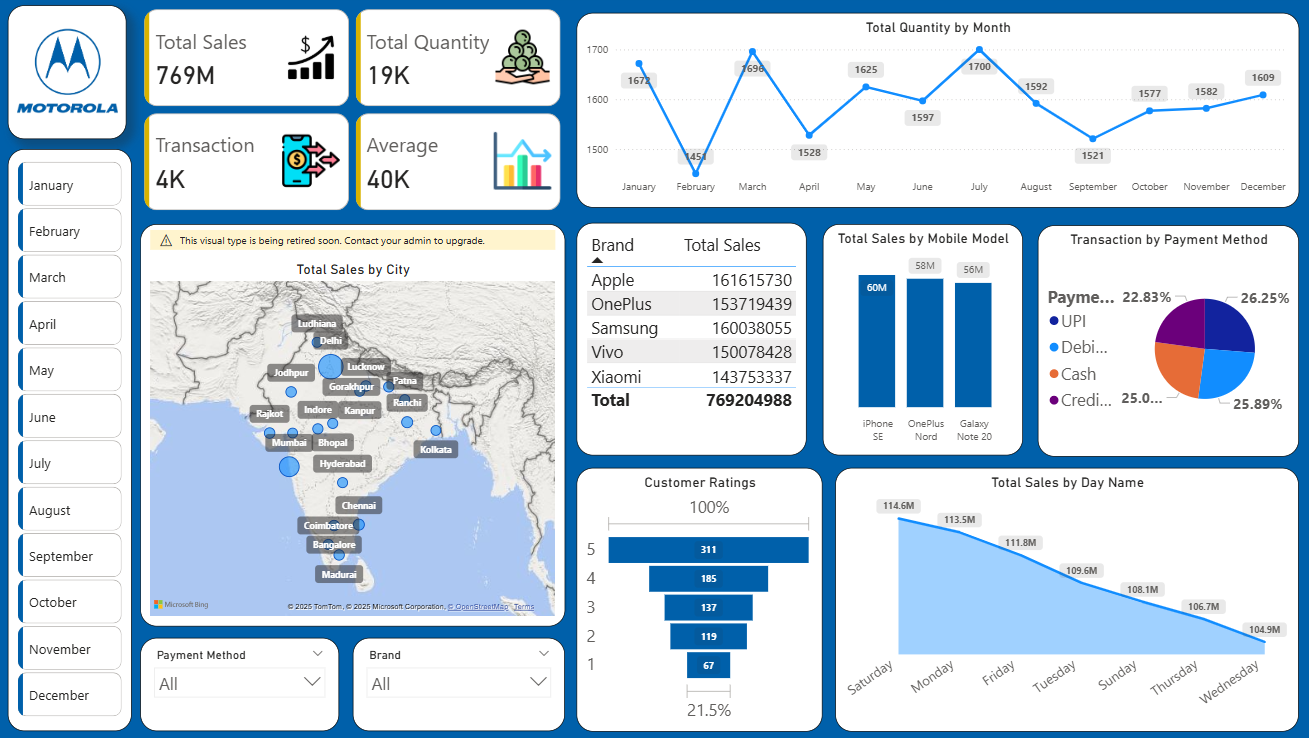

What the dashboard file says about the page in this screenshot:
{"tool":"powerbi","page":{"name":"Page 1","canvas":[1580,900],"ordinal":0},"visuals":[{"type":"shape","box":[10.6,13.6,143.3,161.4],"z":0},{"type":"image","box":[15.1,13.6,135.7,158.3],"z":1000},{"type":"shape","box":[10.6,187,149.3,702.8],"z":2000},{"type":"advancedSlicerVisual","fields":{"Values":["Sales_Data.Date.Variation.Date Hierarchy.Month"]},"box":[18.1,197.6,135.7,681.6],"z":3000},{"type":"cardVisual","fields":{"Data":["Sales_Data.Total_sale","Sales_Data.Quantity","Sales_Data.Transaction","Sales_Data.Average"]},"box":[170.4,13.6,512.7,253.4],"z":4000},{"type":"lineChart","fields":{"Y":["Sales_Data.Total Quantity"],"Category":["Sales_Data.Date.Variation.Date Hierarchy.Month","Sales_Data.Date.Variation.Date Hierarchy.Day"]},"box":[696.7,22.6,871.7,235.3],"z":5000},{"type":"map","fields":{"Category":["Sales_Data.City"],"Size":["Sales_Data.Total Sales"]},"box":[170.4,277.5,512.7,485.6],"z":6000},{"type":"columnChart","fields":{"Category":["Sales_Data.Mobile Model"],"Y":["Sales_Data.Total Sales"]},"box":[993.8,277.5,241.3,279],"z":7000},{"type":"pieChart","fields":{"Category":["Sales_Data.Payment Method"],"Y":["Sales_Data.Transaction"]},"box":[1253.2,279,315.2,279],"z":8000},{"type":"funnel","title":"Customer Ratings","fields":{"Category":["Sales_Data.Customer Ratings"],"Y":["CountNonNull(Sales_Data.Customer Ratings)"]},"box":[696.7,571.6,297.1,318.2],"z":9000},{"type":"tableEx","fields":{"Values":["Sales_Data.Brand","Sales_Data.Total Sales"]},"box":[696.7,276,277.5,280.5],"z":10000},{"type":"areaChart","fields":{"Category":["Sales_Data.Day Name"],"Y":["Sales_Data.Total Sales"]},"box":[1008.9,571.6,559.5,318.2],"z":11000},{"type":"slicer","fields":{"Values":["Sales_Data.Payment Method"]},"box":[170.4,776.6,239.8,113.1],"z":12000},{"type":"slicer","fields":{"Values":["Sales_Data.Brand"]},"box":[426.8,776.6,256.4,113.1],"z":13000}]}

Visuals, with their boxes in screenshot pixels (x1, y1, x2, y2), scaled from the page's 1580x900 canvas onto the 1309x738 screenshot:
shape: pyautogui.locateOnScreen(9, 11, 128, 144)
image: pyautogui.locateOnScreen(13, 11, 125, 141)
shape: pyautogui.locateOnScreen(9, 153, 132, 730)
advancedSlicerVisual - Sales_Data.Date.Variation.Date Hierarchy.Month: pyautogui.locateOnScreen(15, 162, 127, 721)
cardVisual - Sales_Data.Total_sale x Sales_Data.Quantity: pyautogui.locateOnScreen(141, 11, 566, 219)
lineChart - Sales_Data.Total Quantity x Sales_Data.Date.Variation.Date Hierarchy.Month: pyautogui.locateOnScreen(577, 19, 1299, 211)
map - Sales_Data.City x Sales_Data.Total Sales: pyautogui.locateOnScreen(141, 228, 566, 626)
columnChart - Sales_Data.Mobile Model x Sales_Data.Total Sales: pyautogui.locateOnScreen(823, 228, 1023, 456)
pieChart - Sales_Data.Payment Method x Sales_Data.Transaction: pyautogui.locateOnScreen(1038, 229, 1299, 458)
"Customer Ratings" funnel: pyautogui.locateOnScreen(577, 469, 823, 730)
tableEx - Sales_Data.Brand x Sales_Data.Total Sales: pyautogui.locateOnScreen(577, 226, 807, 456)
areaChart - Sales_Data.Day Name x Sales_Data.Total Sales: pyautogui.locateOnScreen(836, 469, 1299, 730)
slicer - Sales_Data.Payment Method: pyautogui.locateOnScreen(141, 637, 340, 730)
slicer - Sales_Data.Brand: pyautogui.locateOnScreen(354, 637, 566, 730)
